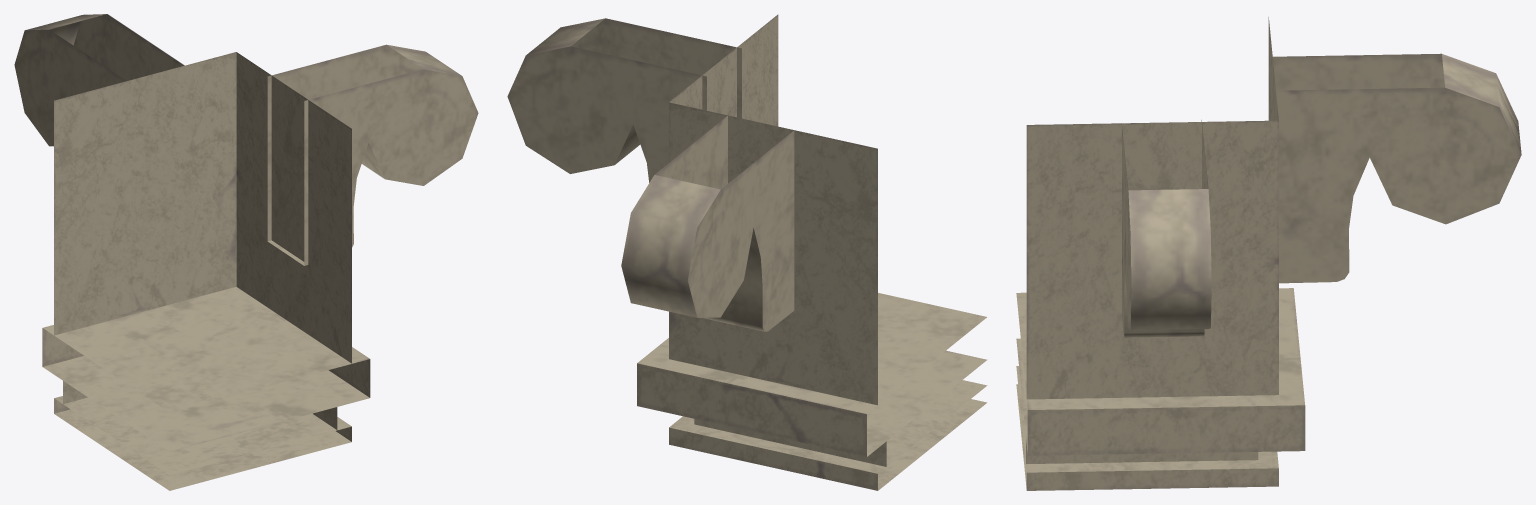
File: 3F_roofyong_side_low.001 Instance.fbx
The picture shows the model from 3 angles, left to right: view 1: azimuth 30°, elevation 25°; view 2: azimuth 150°, elevation 25°; view 3: azimuth 270°, elevation 25°; orthographic projection. The views are drawn at different scales.
Parts seen in each view (by area): view 1: SM_town_BD_3Fside__1_; view 2: SM_town_BD_3Fside__1_; view 3: SM_town_BD_3Fside__1_.
Boxes of the visible parts, left/top/right/bottom form: SM_town_BD_3Fside__1_: left=14, top=14, right=478, bottom=490; SM_town_BD_3Fside__1_: left=507, top=14, right=987, bottom=490; SM_town_BD_3Fside__1_: left=1016, top=17, right=1521, bottom=490.
Size of the model in its own units: 76.35 by 62.32 by 77.97.
